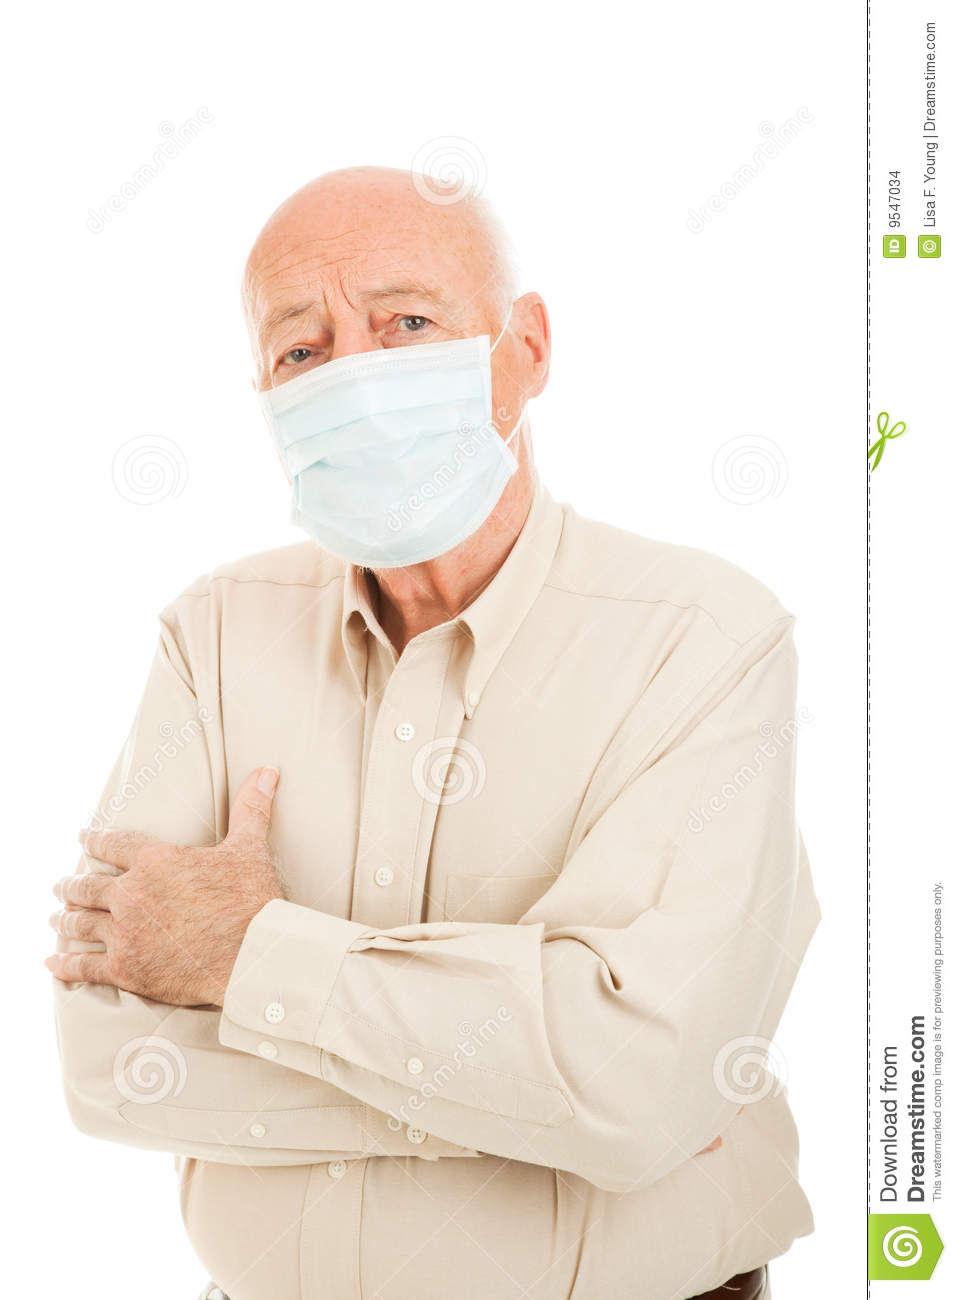mask: (265, 335, 520, 573)
